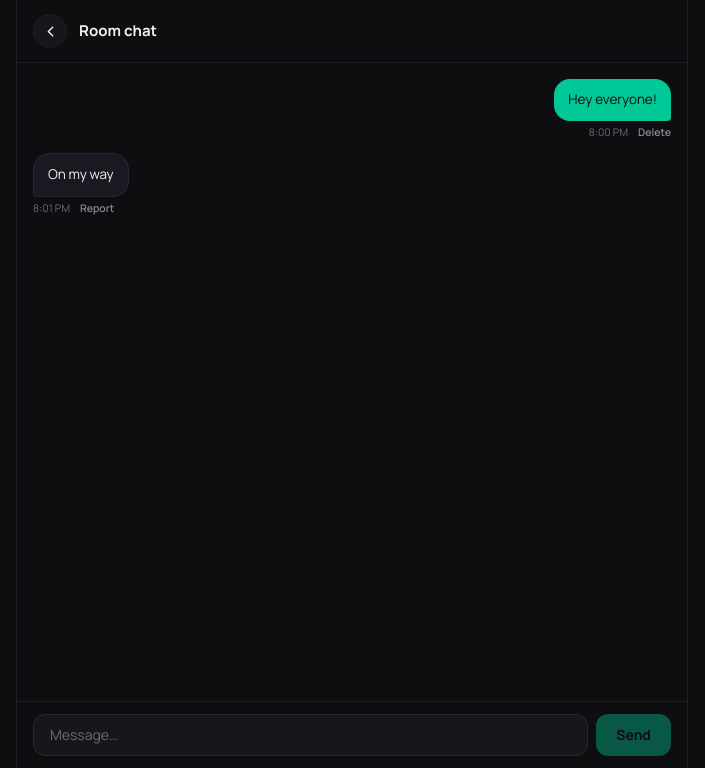
Test: RoomChat › mentions when a decision was low-confidence and flagged for human review
The width and height of the screenshot is (705, 768).
Click the button "Report": click(97, 208) [80,201,114,216]
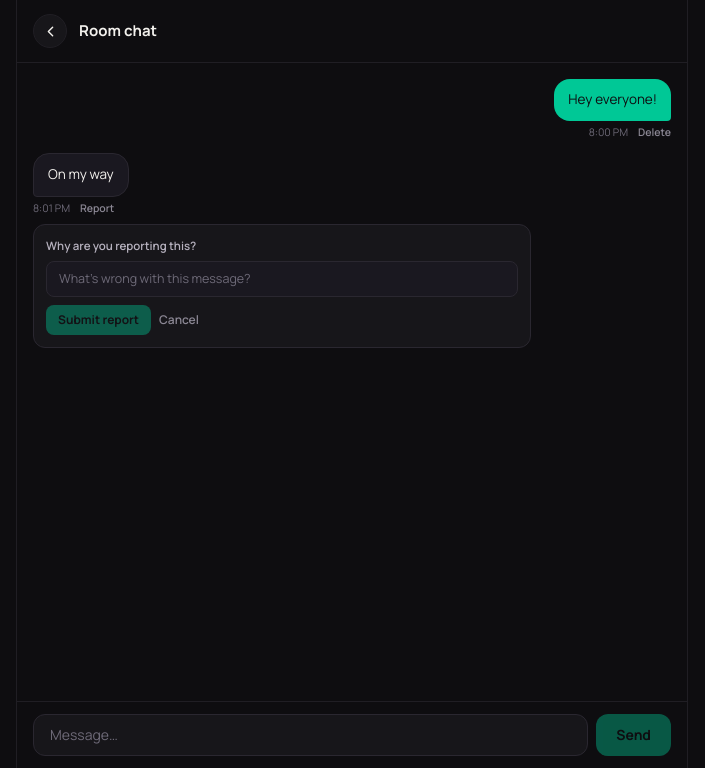
In the field labelled "Why are you reporting this?": (282, 279) [46,261,518,297], type "not sure"
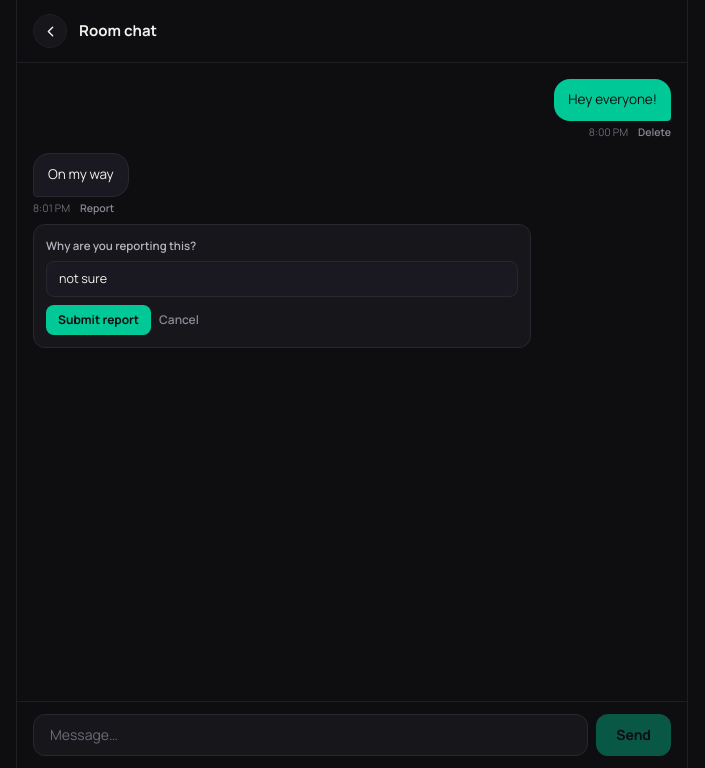
Click the button "Submit report": click(98, 320) [46,305,151,335]
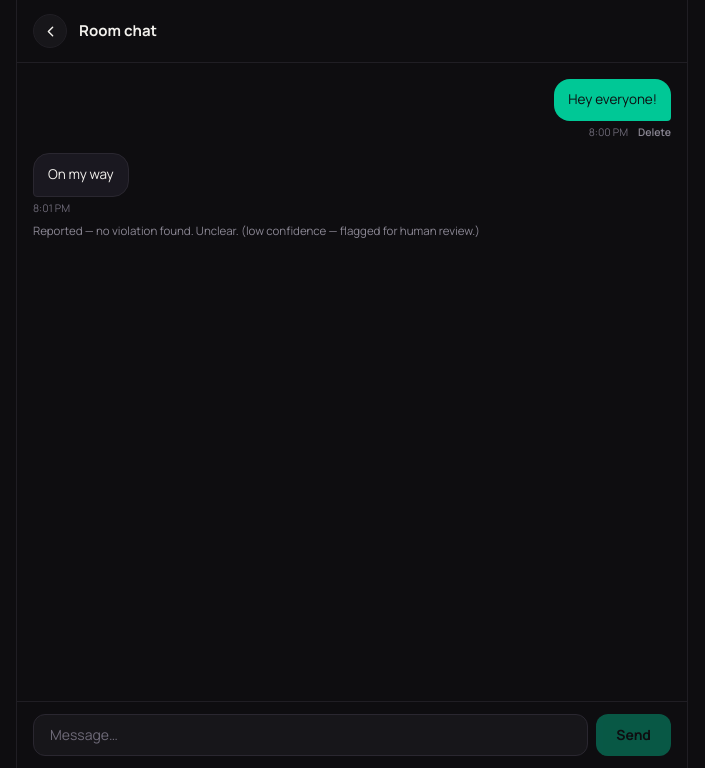
Now the text "flagged for human review" is shown, box [33,223,480,238]
